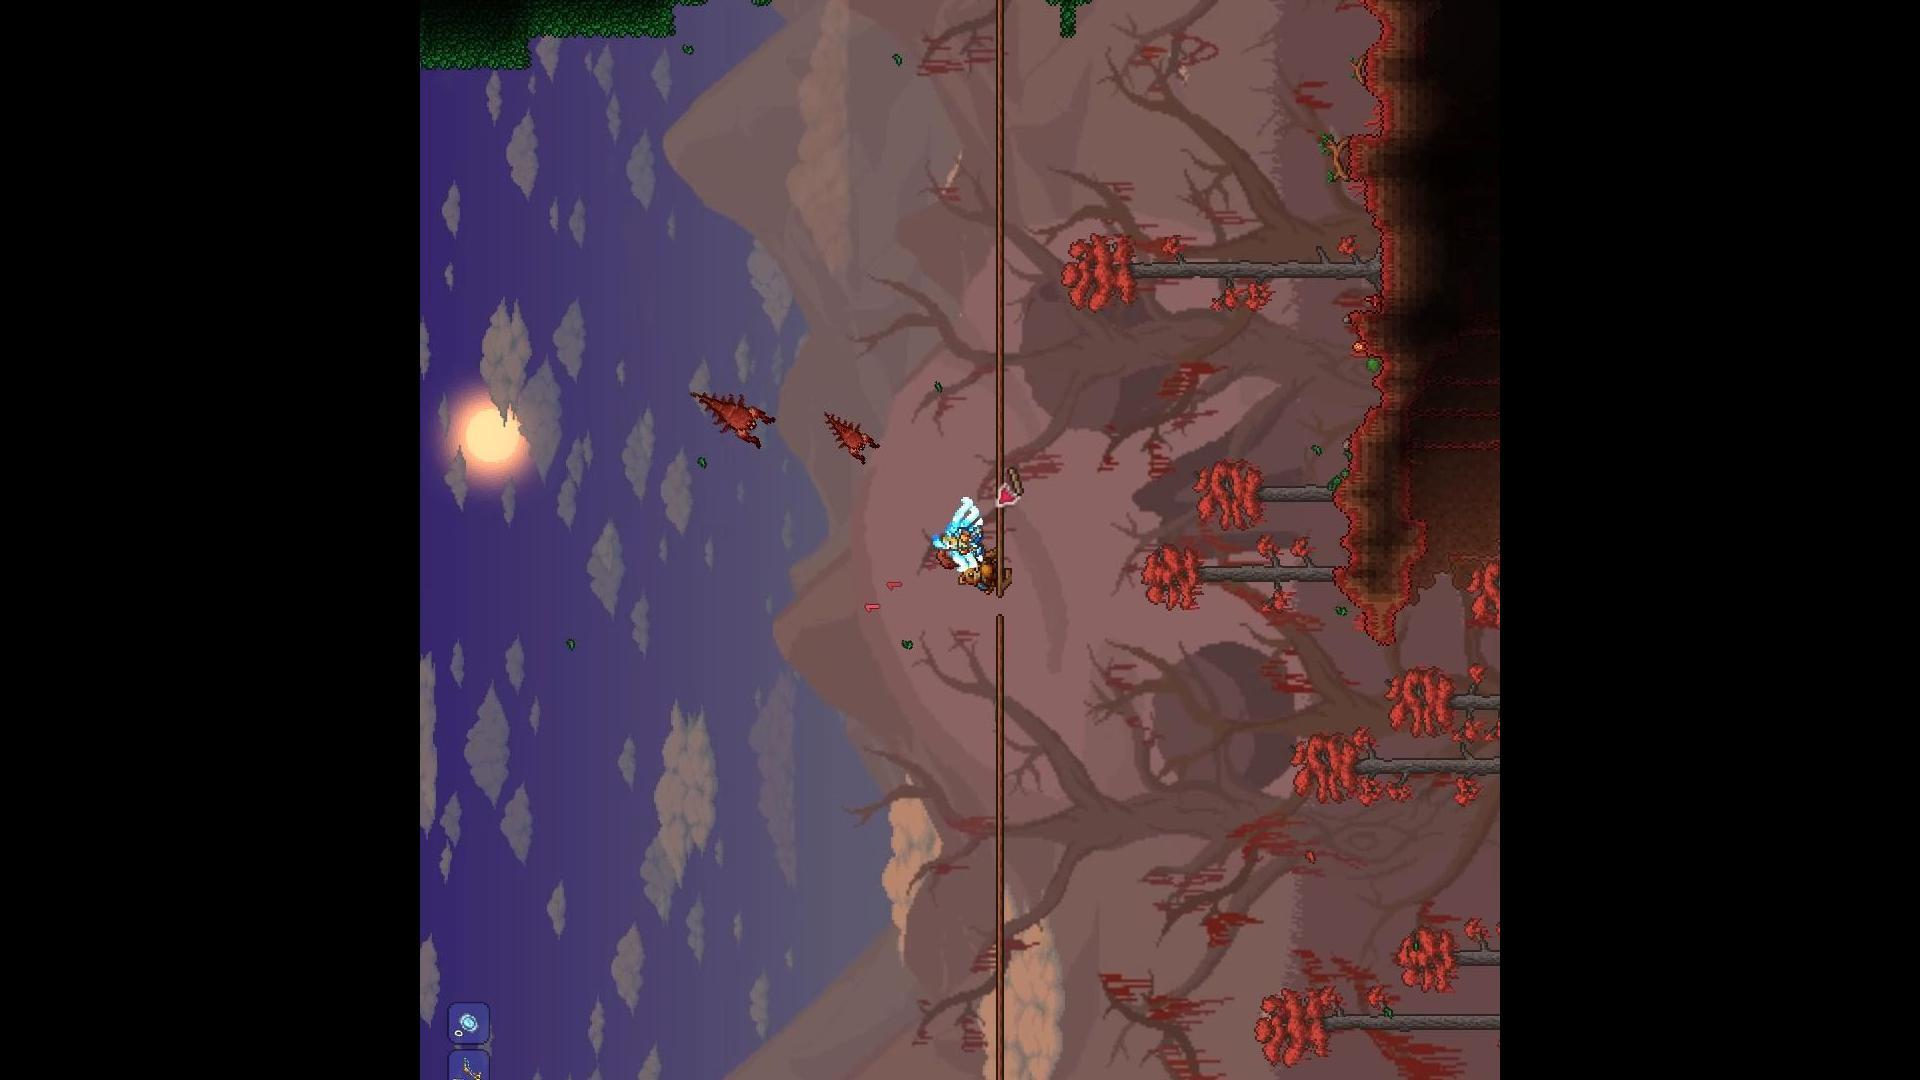crimera: (688, 386, 781, 455), (818, 406, 893, 468)
